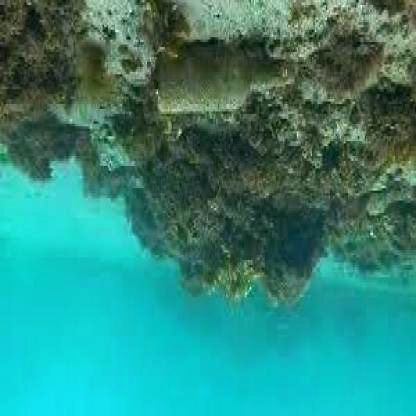gbottle: (155, 49, 294, 109)
